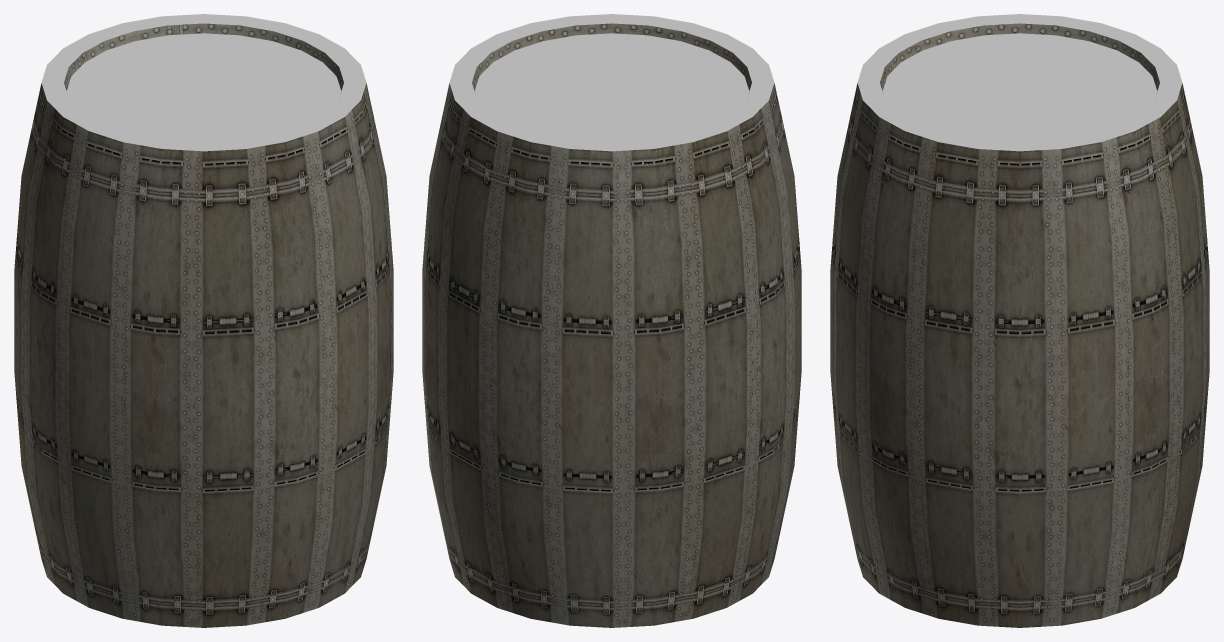
File: barrel.fbx
3 views of the same model, side by side, from view 1: azimuth 30°, elevation 25°; view 2: azimuth 150°, elevation 25°; view 3: azimuth 270°, elevation 25° (orthographic).
Parts seen in each view (by area): view 1: Mesh; view 2: Mesh; view 3: Mesh.
Boxes of the visible parts, x1=… form: Mesh: x1=14, y1=14, x2=393, y2=627; Mesh: x1=422, y1=14, x2=801, y2=627; Mesh: x1=830, y1=14, x2=1209, y2=627.
Bounding box in the file's own units: 71.14 × 98.56 × 71.14.
